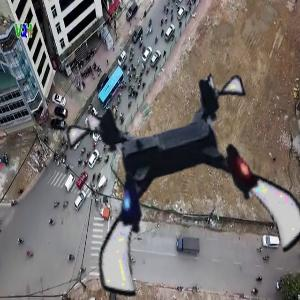drone: (78, 76, 299, 297)
